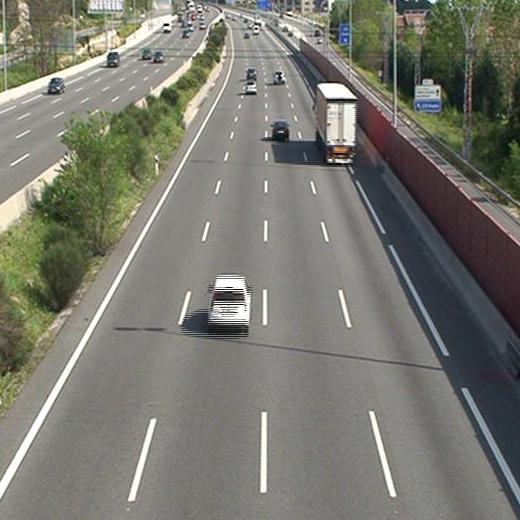car: (208, 274, 252, 331), (270, 120, 290, 139), (245, 80, 258, 93), (273, 71, 285, 83), (246, 68, 258, 79)
truck: (312, 81, 358, 166)
